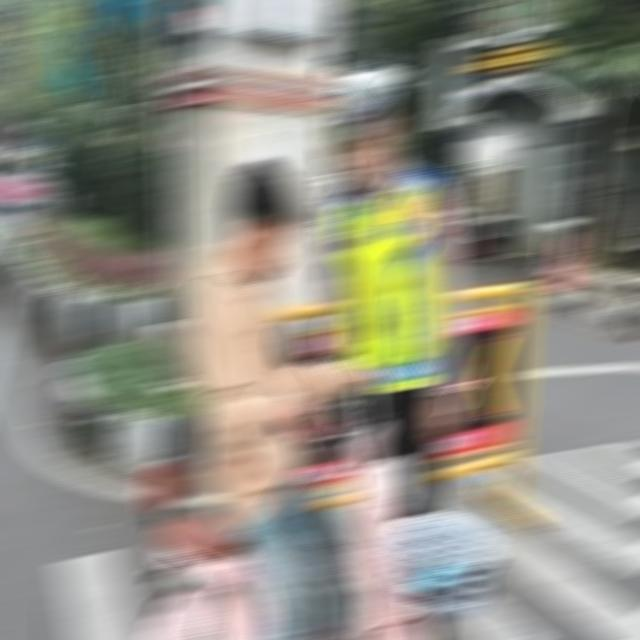Without Helmet: (212, 159, 306, 282)
